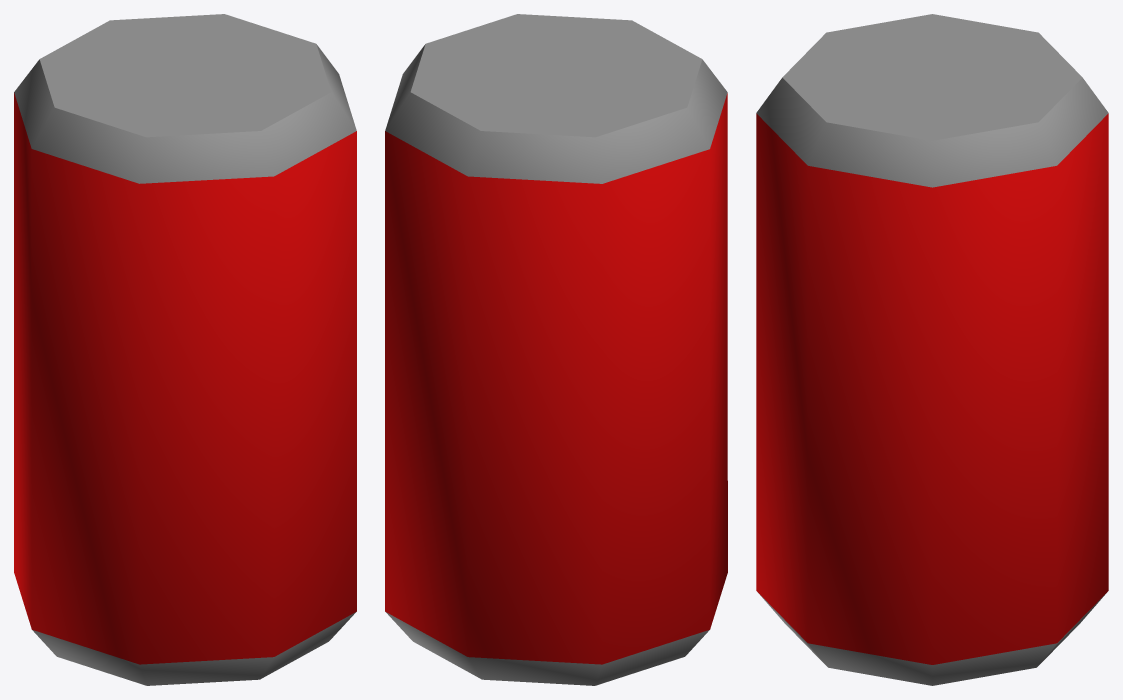
Rendered from Pop Can Coke.FBX.
The picture shows the model from 3 angles, left to right: view 1: azimuth 30°, elevation 25°; view 2: azimuth 150°, elevation 25°; view 3: azimuth 270°, elevation 25°; orthographic projection.
Visible parts, largest first — view 1: Pop Can Coke; view 2: Pop Can Coke; view 3: Pop Can Coke.
Boxes of the visible parts, <box> form: Pop Can Coke: <box>14,14,356,685</box>; Pop Can Coke: <box>385,14,727,685</box>; Pop Can Coke: <box>756,14,1108,685</box>.
Bounding box in the file's own units: 23.55 × 40.25 × 23.55.
